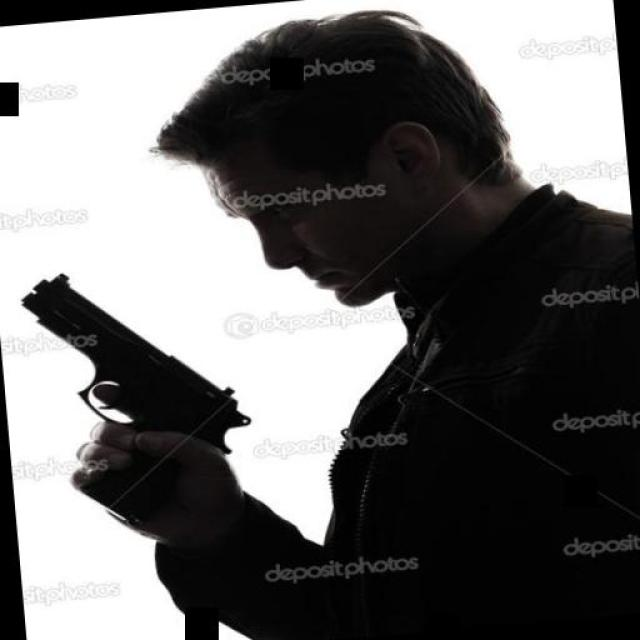gun: (11, 256, 262, 536)
